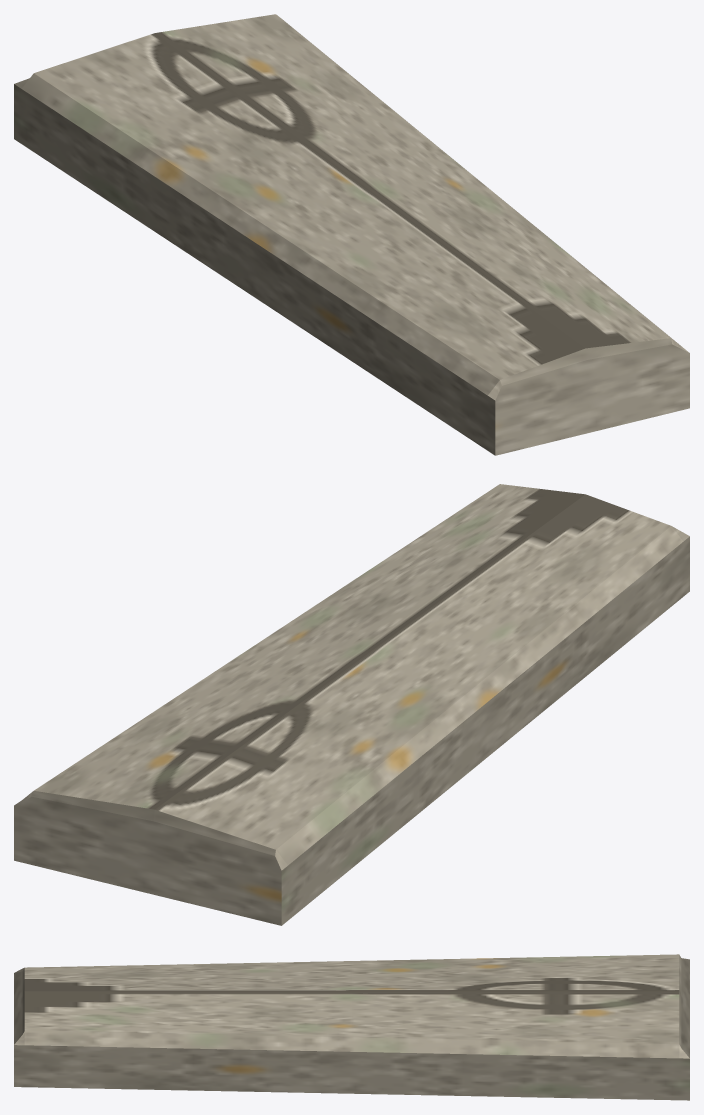
File: SE_Grave_Slab.glb
3 views of the same model, one above another, from view 1: azimuth 30°, elevation 25°; view 2: azimuth 150°, elevation 25°; view 3: azimuth 270°, elevation 25° (orthographic). The views are drawn at different scales.
Parts seen in each view (by area): view 1: SE_Grave_Slab; view 2: SE_Grave_Slab; view 3: SE_Grave_Slab.
Part boxes in pixels (left/top/right/bottom): SE_Grave_Slab: left=14, top=14, right=689, bottom=455; SE_Grave_Slab: left=14, top=484, right=689, bottom=925; SE_Grave_Slab: left=14, top=954, right=689, bottom=1100.
Size of the model in its own units: 0.66 by 0.185 by 1.9.
Materials: 1 (1 with a texture image).
